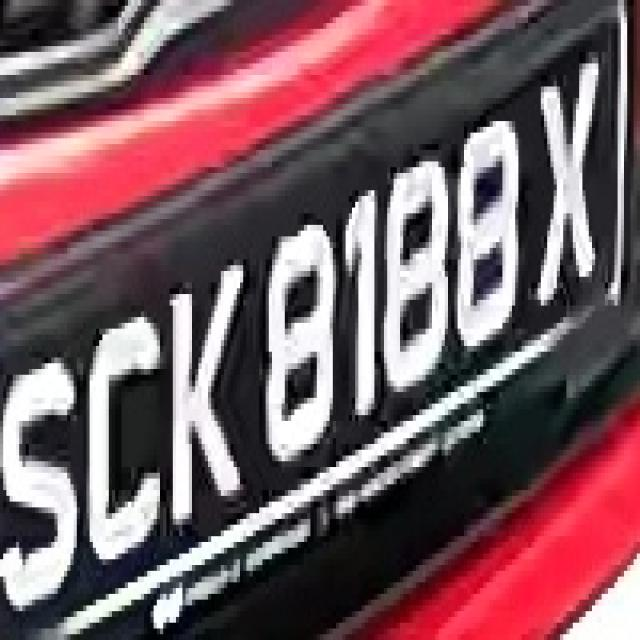1: (346, 161, 378, 450)
8: (256, 202, 342, 455), (381, 150, 461, 404), (448, 121, 525, 358)
C: (80, 300, 160, 582)
K: (166, 254, 240, 536)
S: (6, 317, 84, 623)
X: (524, 52, 618, 311)
